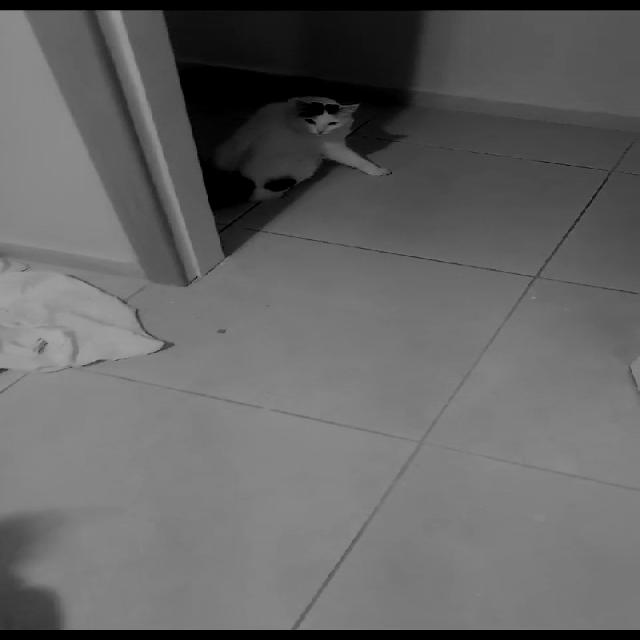Simba: (208, 82, 406, 208)
